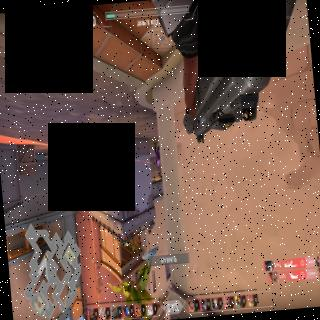ENEMY-BODY: (154, 141, 162, 167)
ENEMY-HEAD: (158, 162, 160, 166)
